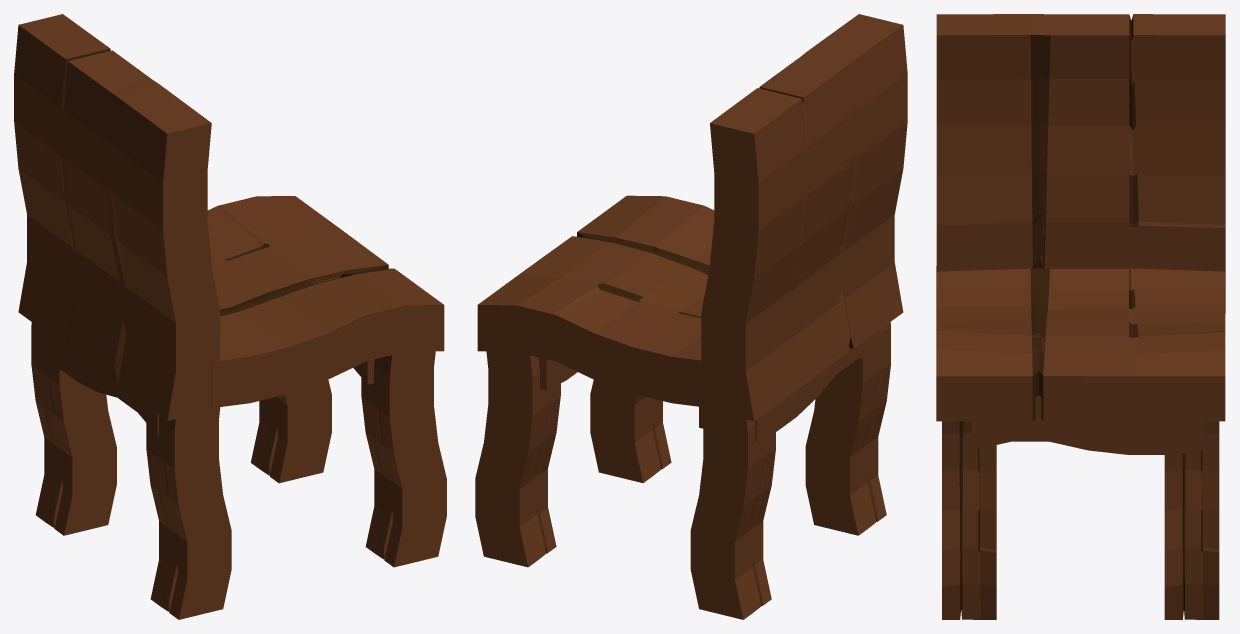
Rendered from WoodenChair.fbx.
3 renders of one model, left to right at view 1: azimuth 30°, elevation 25°; view 2: azimuth 150°, elevation 25°; view 3: azimuth 270°, elevation 25°, orthographic. The views are drawn at different scales.
Visible parts, largest first — view 1: Cube.011; view 2: Cube.011; view 3: Cube.011.
Boxes of the visible parts, x1,y1,x2,y2 form: Cube.011: (14, 14, 446, 619); Cube.011: (475, 14, 907, 619); Cube.011: (936, 14, 1225, 619).
Bounding box in the file's own units: 189 × 310 × 171.
